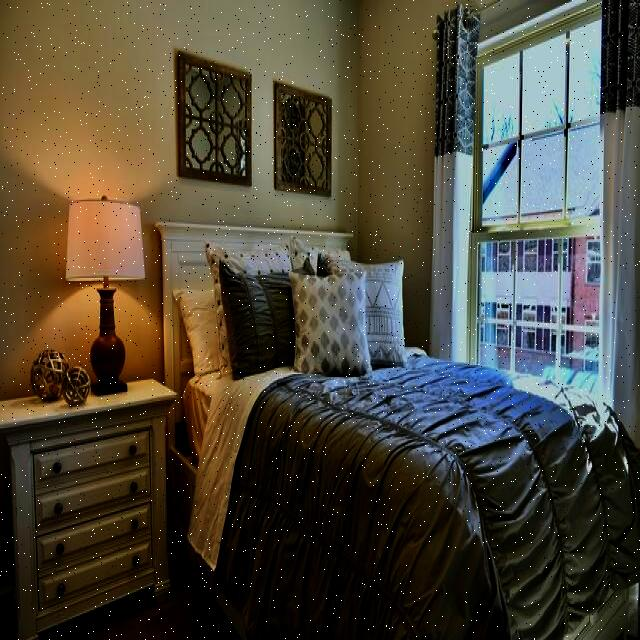bed: (146, 193, 640, 640)
